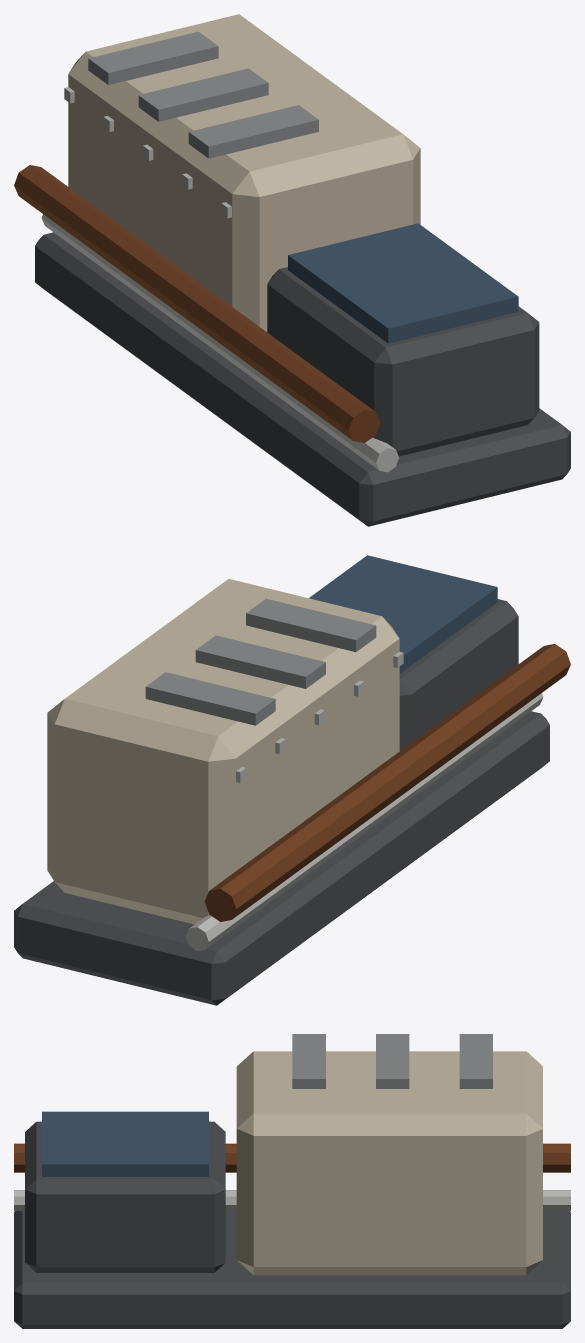
File: cargo-bay-wall-w.glb
3 views of the same model, one above another, from view 1: azimuth 30°, elevation 25°; view 2: azimuth 150°, elevation 25°; view 3: azimuth 270°, elevation 25° (orthographic). The views are drawn at different scales.
Parts seen in each view (by area): view 1: body; view 2: body; view 3: body.
Part boxes in pixels (box(x1,y1,x2,y2)): body: box(14, 14, 570, 526); body: box(14, 555, 570, 1005); body: box(14, 1034, 570, 1328).
Bounding box in the file's own units: 0.785 × 0.86 × 2.
